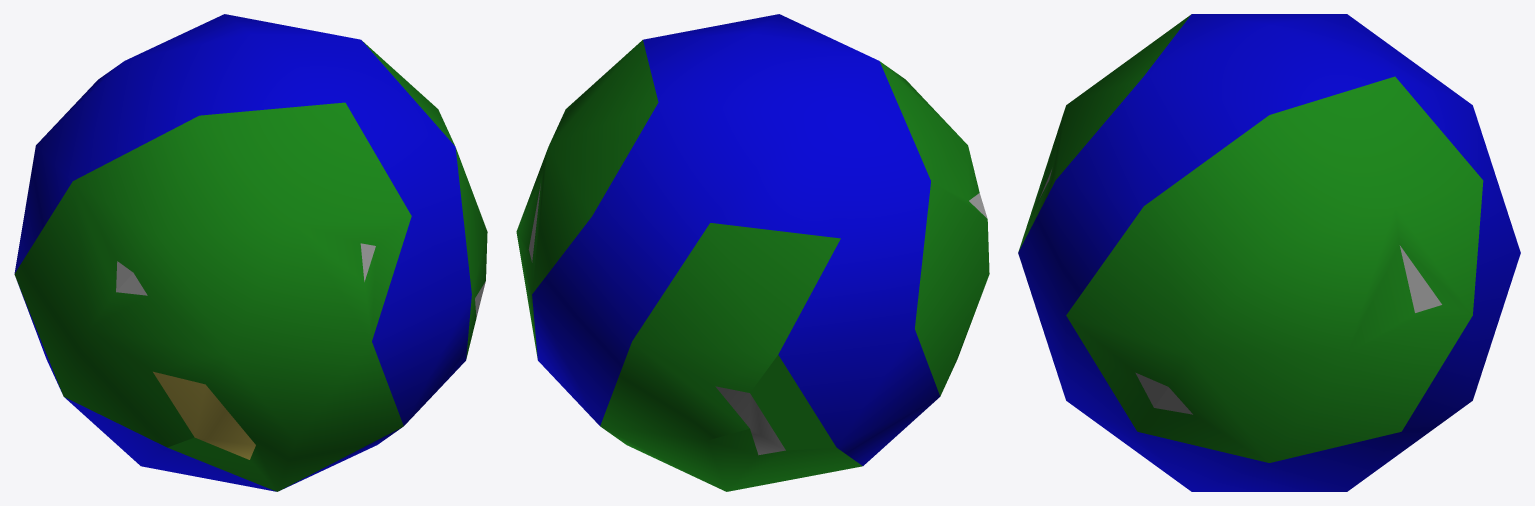
Rendered from aarde.fbx.
3 renders of one model, left to right at view 1: azimuth 30°, elevation 25°; view 2: azimuth 150°, elevation 25°; view 3: azimuth 270°, elevation 25°, orthographic. The views are drawn at different scales.
Parts seen in each view (by area): view 1: Icosphere; view 2: Icosphere; view 3: Icosphere.
Part boxes in pixels (bbox=[...]): Icosphere: bbox=[14, 14, 487, 491]; Icosphere: bbox=[516, 14, 989, 491]; Icosphere: bbox=[1018, 14, 1520, 491].
Bounding box in the file's own units: 1.9 × 2 × 2.
